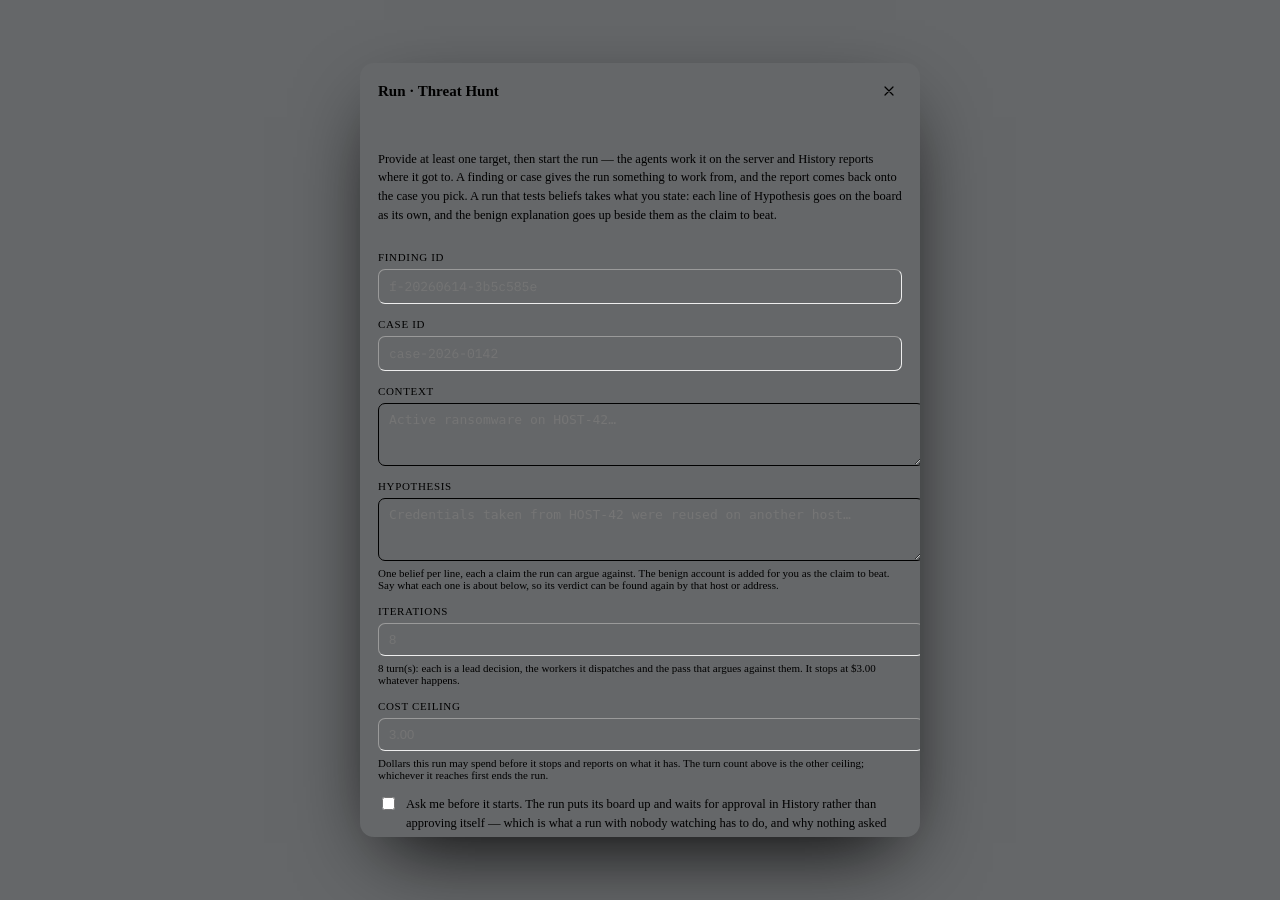
Test case: after the run starts › stays open on the run it started rather than closing on it
The width and height of the screenshot is (1280, 900).
Check: the text "It stops at" is shown, box x1=378 y1=662 x2=876 y2=686
In the text box labelled "Context": coordinates (651, 434) x1=378 y1=403 x2=924 y2=466, type "beaconing on the finance subnet"
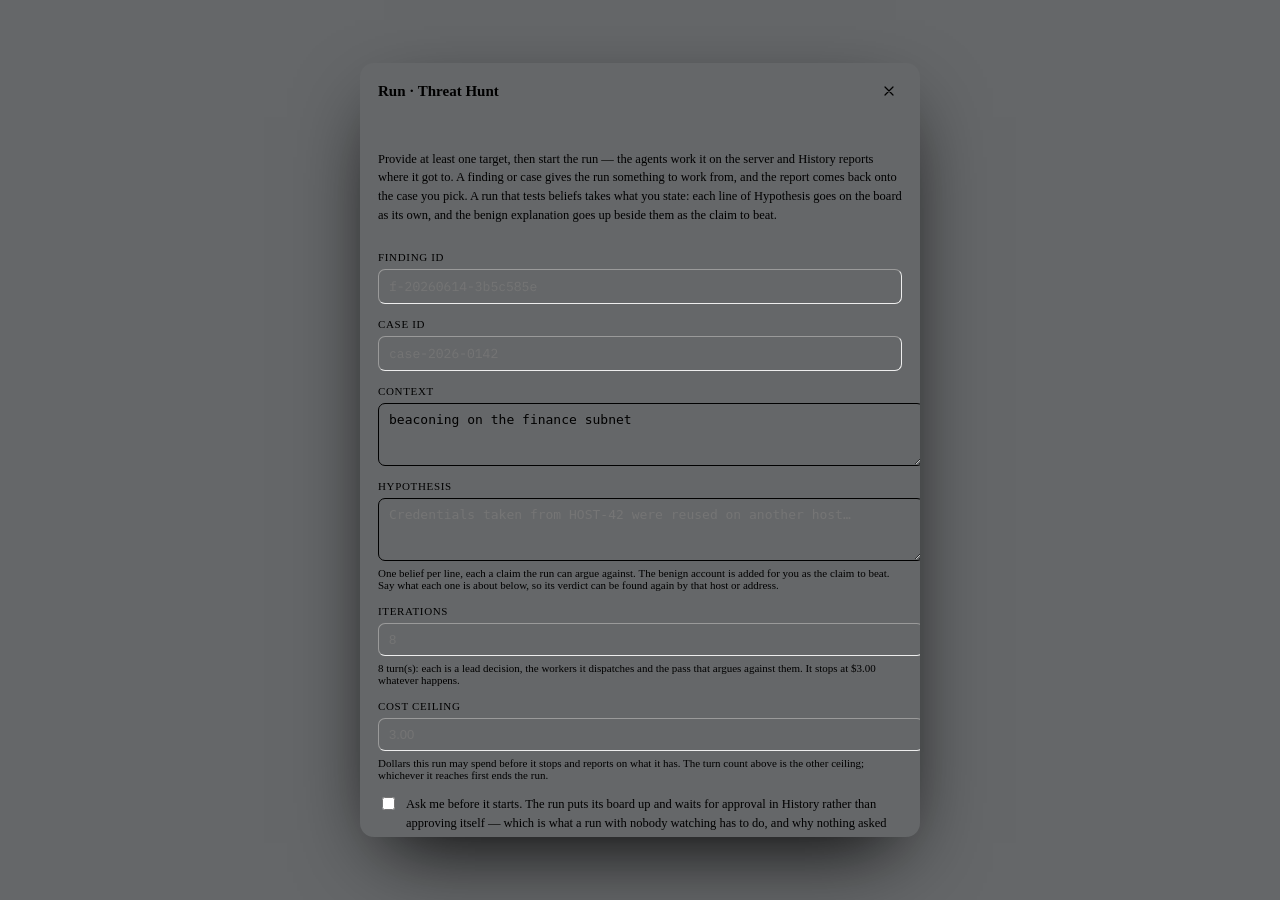
In the text box labelled "Hypothesis": coordinates (651, 530) x1=378 y1=498 x2=924 y2=561, type "a host beacons"
(page scrolled)
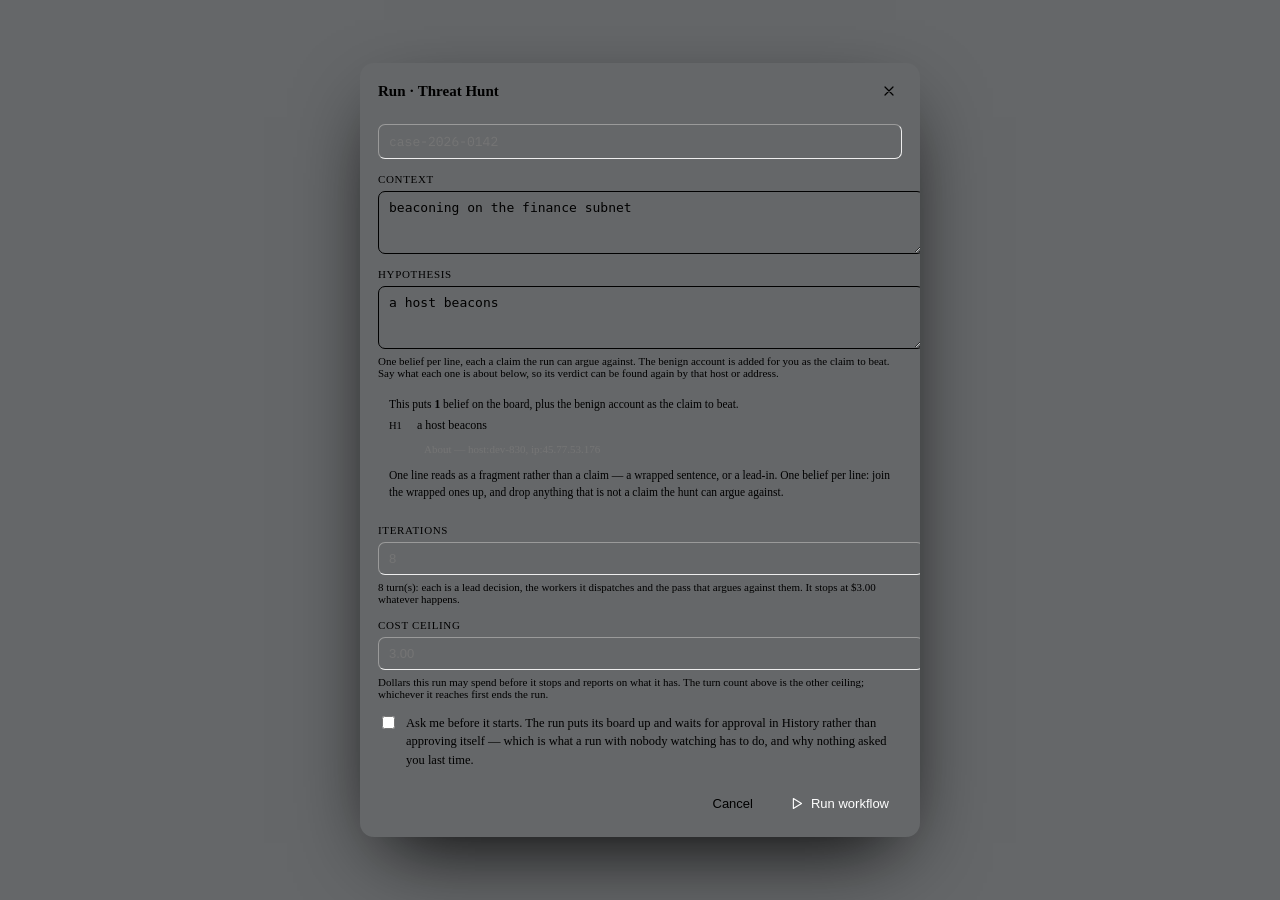
Click the button "Run workflow": coordinates (839, 804) x1=776 y1=788 x2=902 y2=819
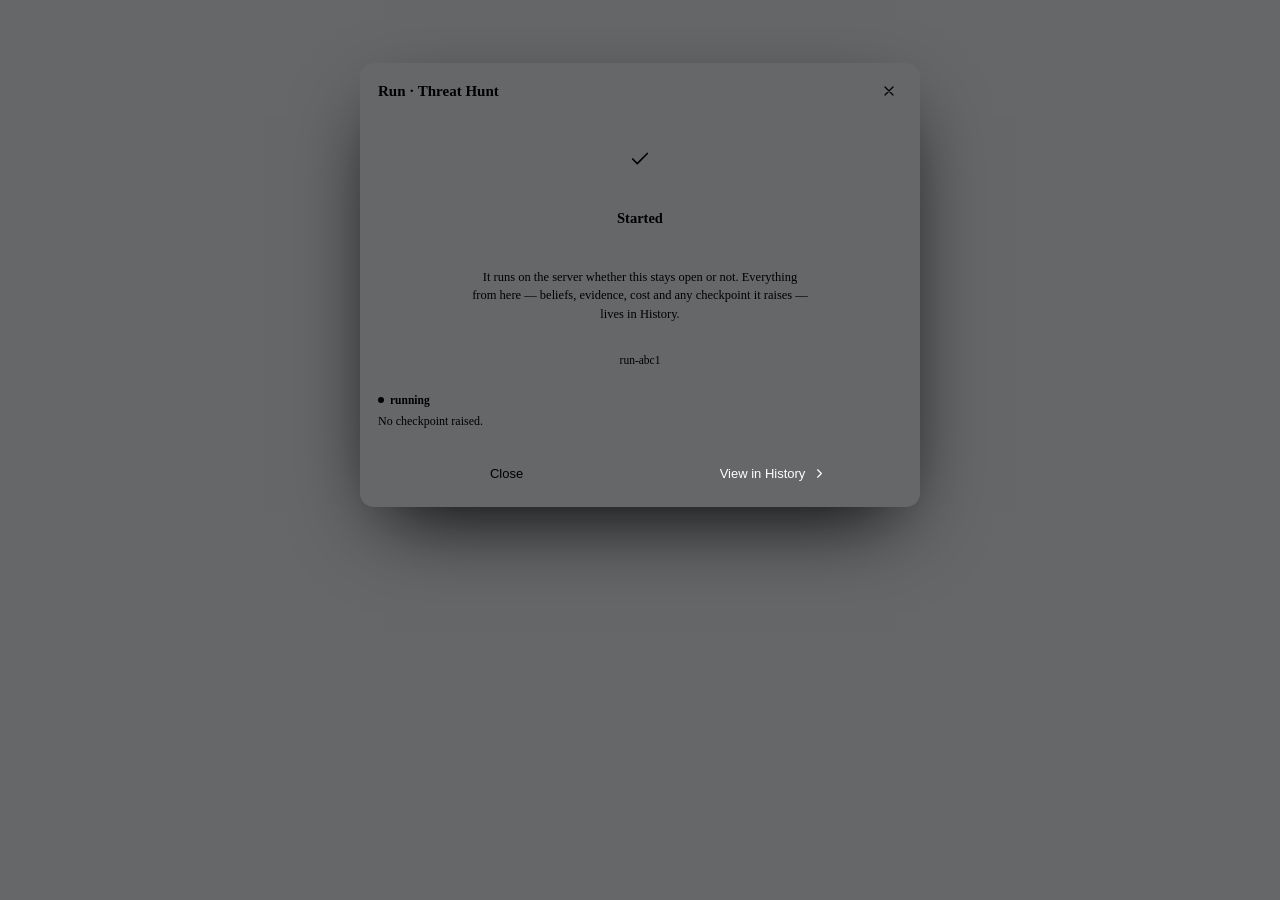
Check: the text "It runs on the server whether this stays open or not" is shown, box x1=472 y1=270 x2=808 y2=321
Check: the text "run-abc1" is shown, box x1=620 y1=354 x2=660 y2=366
